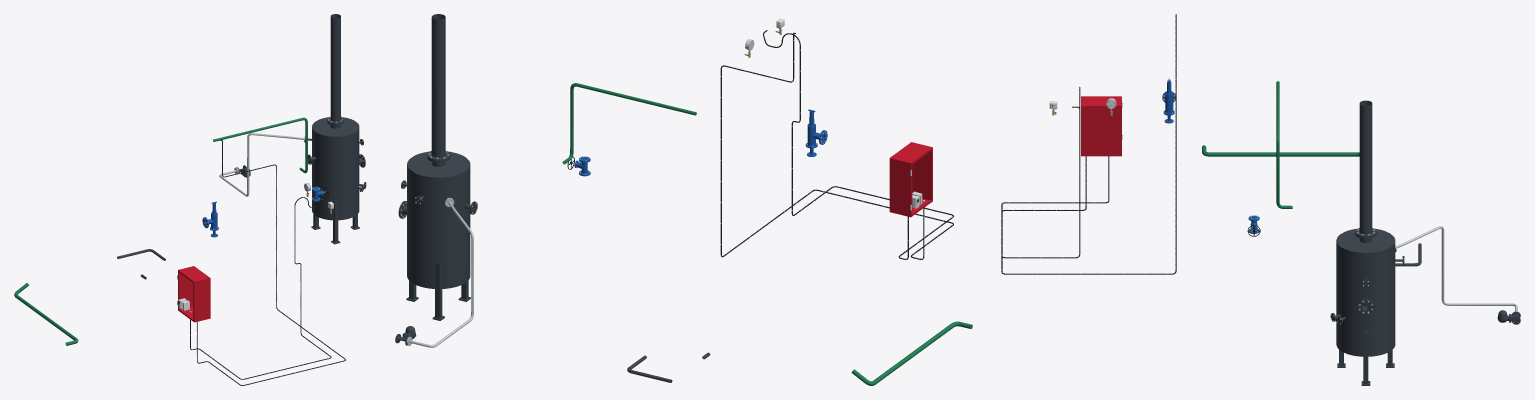
The model's file is s4000-2-D6YTYBVU.glb.
3 views of the same model, side by side, from view 1: azimuth 30°, elevation 25°; view 2: azimuth 150°, elevation 25°; view 3: azimuth 270°, elevation 25° (orthographic). The views are drawn at different scales.
Parts seen in each view (by area): view 1: separator_bdv60_5 / dark, control_cabinet / control_cabinet_0.npz, bdv_vent / dark, gpz_drive_cable / black, wiring_pressure_switch_2 / black, trap_gap_to_bdv / steel, to_direct / green, deaerator_feed / green; view 2: separator_bdv60_5 / dark, control_cabinet / control_cabinet_0.npz, bdv_vent / dark, gpz_drive_cable / black, wiring_pressure_switch_2 / black, to_direct / green, deaerator_feed / green, trap_gap_to_bdv / steel; view 3: separator_bdv60_5 / dark, control_cabinet / control_cabinet_0.npz, bdv_vent / dark, gpz_drive_cable / black, wiring_pressure_switch_2 / black, deaerator_feed / green, trap_gap_to_bdv / steel, to_direct / green.
Part boxes in pixels (bbox=[...]): separator_bdv60_5 / dark: bbox=[305, 117, 366, 244]; control_cabinet / control_cabinet_0.npz: bbox=[177, 266, 210, 322]; bdv_vent / dark: bbox=[327, 14, 344, 124]; gpz_drive_cable / black: bbox=[197, 140, 345, 385]; wiring_pressure_switch_2 / black: bbox=[190, 197, 331, 379]; trap_gap_to_bdv / steel: bbox=[219, 133, 305, 196]; to_direct / green: bbox=[213, 117, 307, 173]; deaerator_feed / green: bbox=[14, 283, 78, 345]; separator_bdv60_5 / dark: bbox=[398, 151, 477, 320]; control_cabinet / control_cabinet_0.npz: bbox=[889, 142, 932, 217]; bdv_vent / dark: bbox=[427, 14, 450, 160]; gpz_drive_cable / black: bbox=[720, 32, 953, 259]; wiring_pressure_switch_2 / black: bbox=[763, 30, 953, 259]; to_direct / green: bbox=[562, 83, 696, 164]; deaerator_feed / green: bbox=[851, 321, 972, 385]; trap_gap_to_bdv / steel: bbox=[406, 198, 473, 347]; separator_bdv60_5 / dark: bbox=[1330, 228, 1404, 385]; control_cabinet / control_cabinet_0.npz: bbox=[1081, 96, 1122, 156]; bdv_vent / dark: bbox=[1355, 100, 1376, 237]; gpz_drive_cable / black: bbox=[1001, 14, 1176, 274]; wiring_pressure_switch_2 / black: bbox=[1001, 87, 1109, 258]; deaerator_feed / green: bbox=[1202, 145, 1359, 156]; trap_gap_to_bdv / steel: bbox=[1395, 226, 1519, 313]; to_direct / green: bbox=[1276, 81, 1292, 208].
Size of the model in its own units: 6.73 by 3.85 by 6.74.
